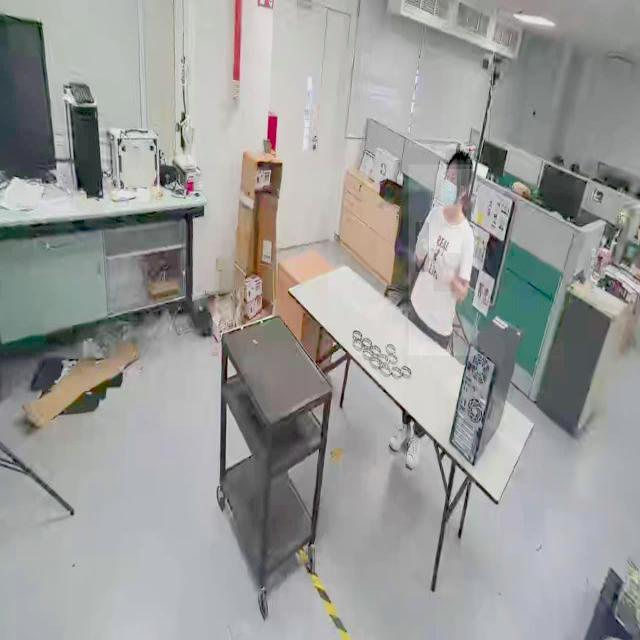face_mask: (441, 170, 461, 209)
hand_glove: (434, 254, 460, 292), (415, 222, 429, 272)
head_nohelmet: (445, 149, 473, 170)
person: (408, 165, 478, 356)
shoes: (403, 429, 423, 479), (388, 414, 411, 454)
